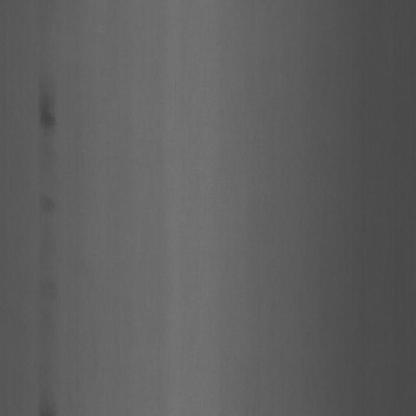oil_spot: (34, 80, 64, 130)
